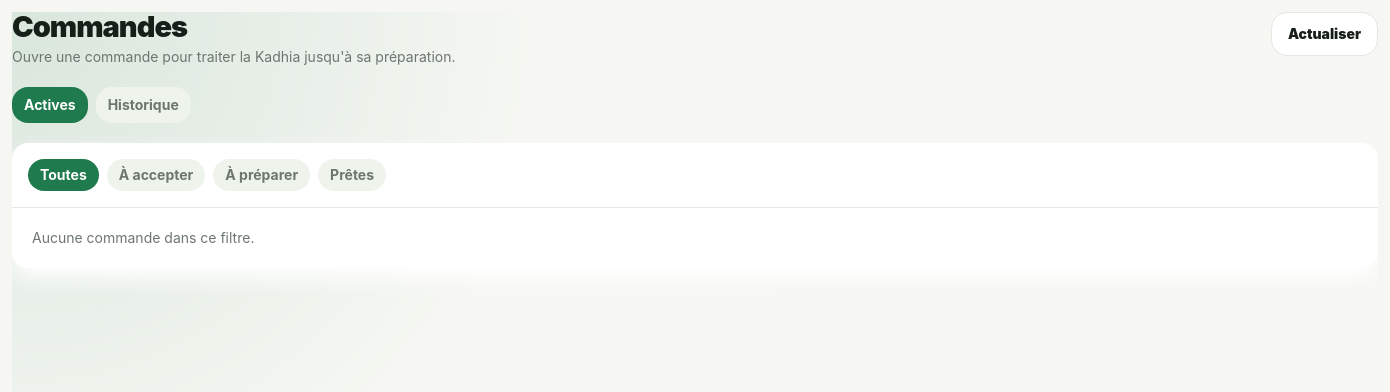
it: MerchantOrdersPage › hides stale history rows when a reload fails
Click the tab "Historique" at [143, 105], box [96,87,191,123]
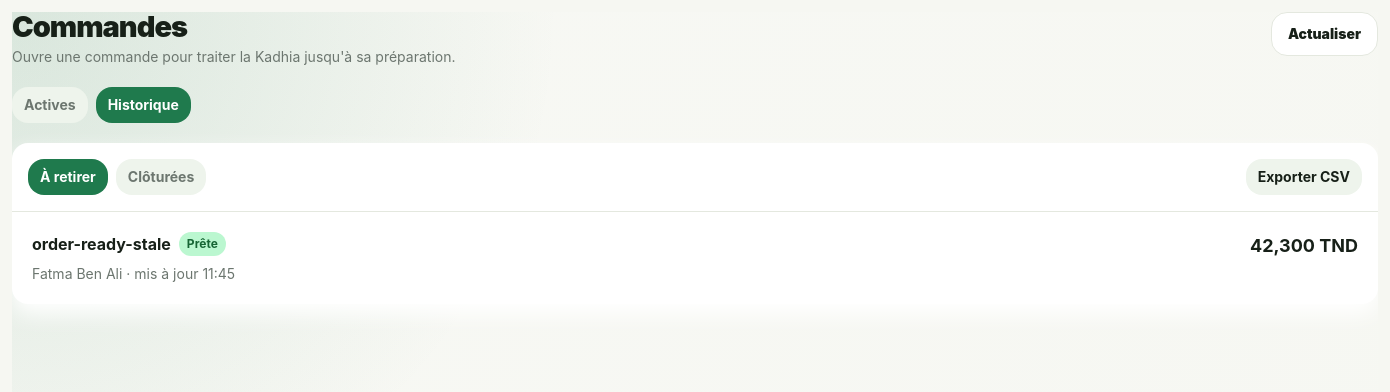
expect the text "order-ready-stale" is shown: met, box [32,232,171,256]
Click the tab "Clôturées" at [161, 177], box [116,159,206,195]
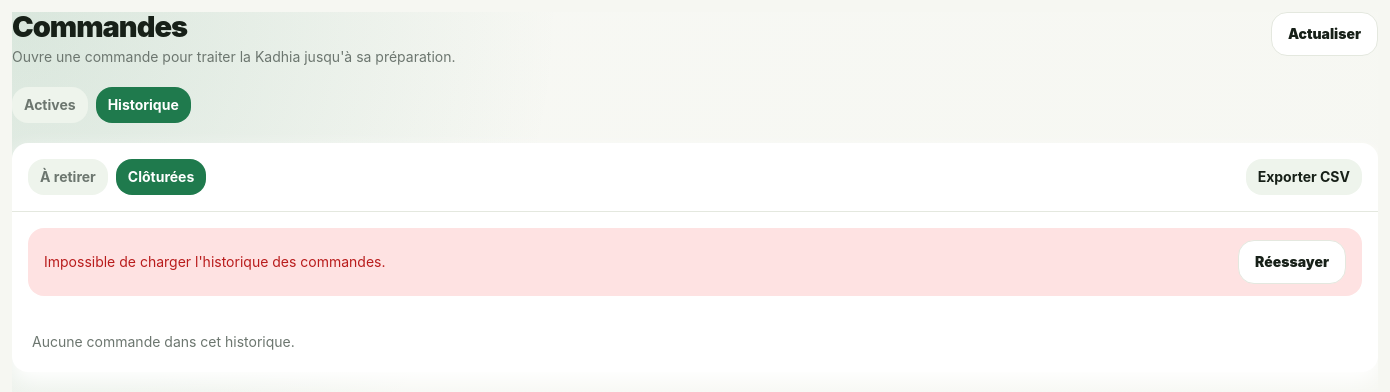
expect the text "Impossible de charger l'historique des commandes." is shown: met, box [44,252,386,272]
expect the link "order-ready-stale" is gone: met
expect the button "Réessayer" is shown: met, box [1238,240,1346,284]
